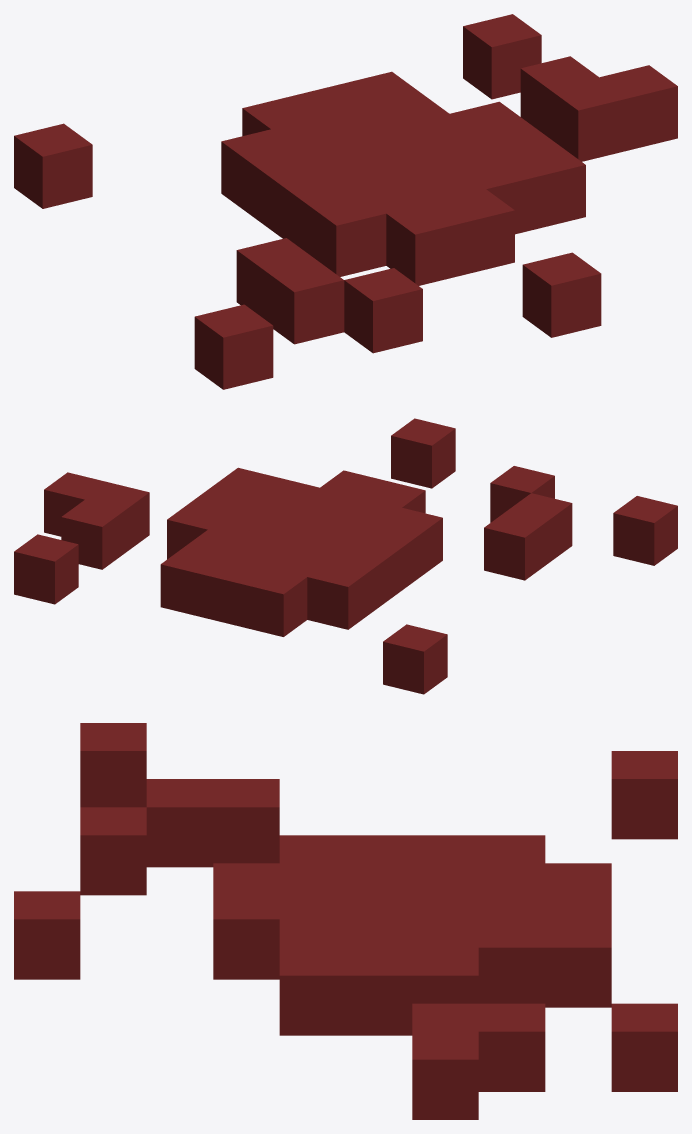
File: blood_04.obj
The picture shows the model from 3 angles, top to bottom: view 1: azimuth 30°, elevation 25°; view 2: azimuth 150°, elevation 25°; view 3: azimuth 270°, elevation 25°; orthographic projection. The views are drawn at different scales.
Parts seen in each view (by area): view 1: blood_04; view 2: blood_04; view 3: blood_04.
Boxes of the visible parts, left/top/right/bottom form: blood_04: left=14, top=14, right=677, bottom=389; blood_04: left=14, top=418, right=677, bottom=694; blood_04: left=14, top=723, right=677, bottom=1119.
Size of the model in its own units: 12 by 1 by 10.
1 material, 1 textured.
